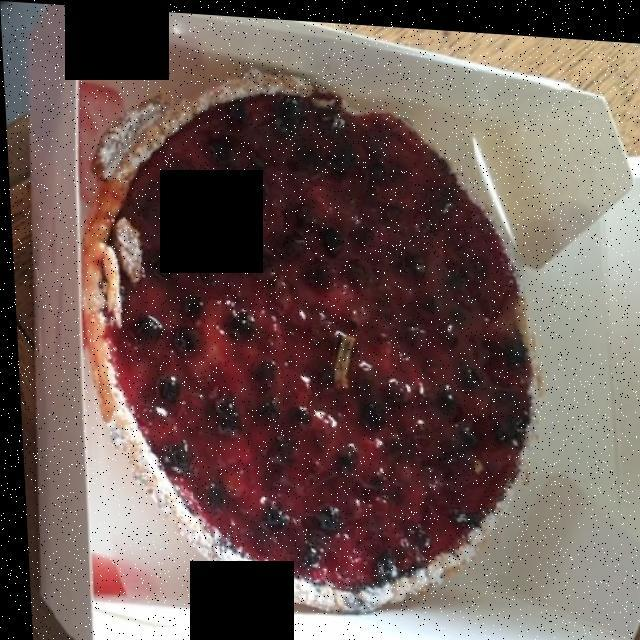fruit-tart: (95, 100, 534, 593)
